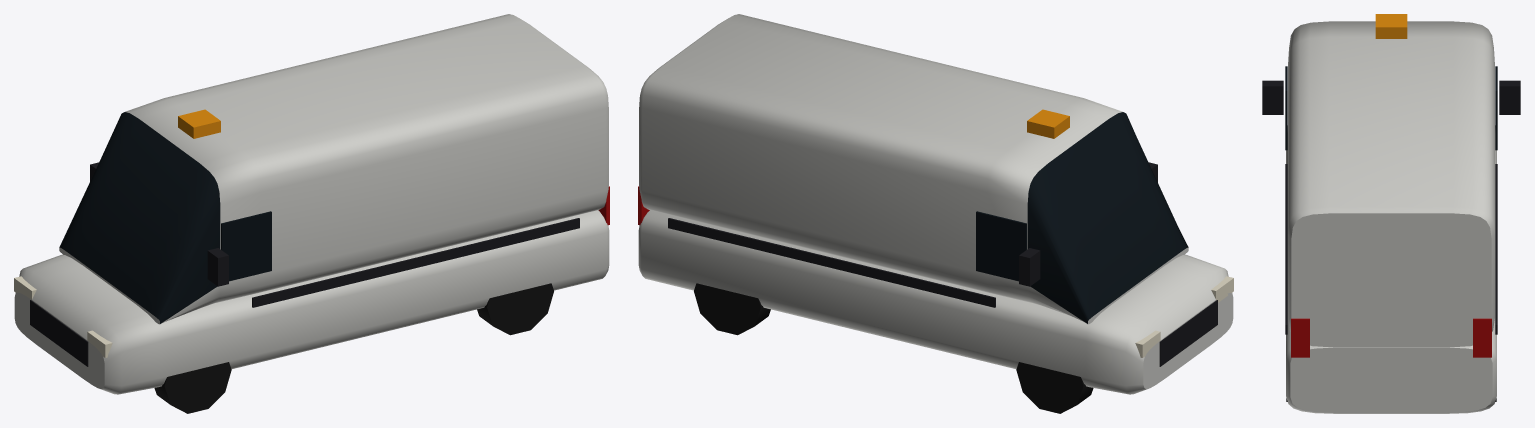
File: van.glb
3 renders of one model, left to right at view 1: azimuth 30°, elevation 25°; view 2: azimuth 150°, elevation 25°; view 3: azimuth 270°, elevation 25°, orthographic.
Visible parts, largest first — view 1: van; view 2: van; view 3: van.
Part boxes in pixels (x1,y1,x2,y2): van: [14, 14, 609, 413]; van: [638, 14, 1233, 413]; van: [1262, 14, 1520, 413].
Size of the model in its own units: 5.52 by 2.54 by 2.44.
